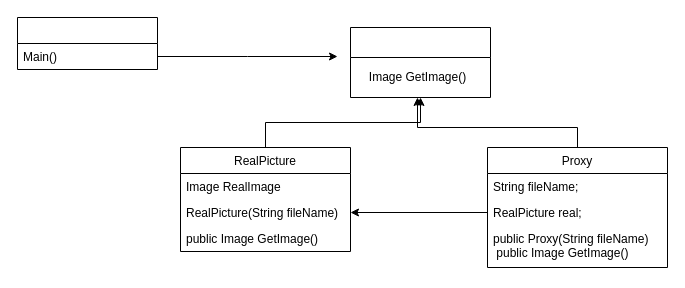
The diagram is 685 pixels wide and 288 high, and some of its shapes have lost their labels. Each missing label, with the box of its shape:
interface Picture: (350, 26, 490, 98)
Program: (16, 16, 158, 70)
